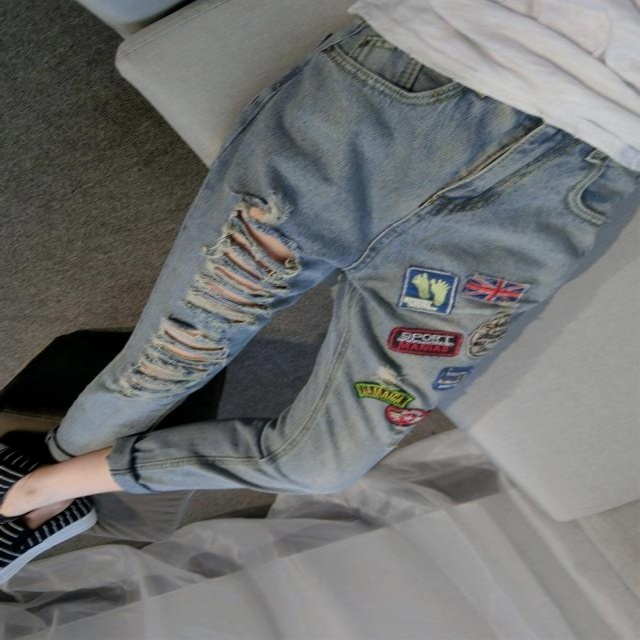ripped_pants: (41, 18, 640, 506)
